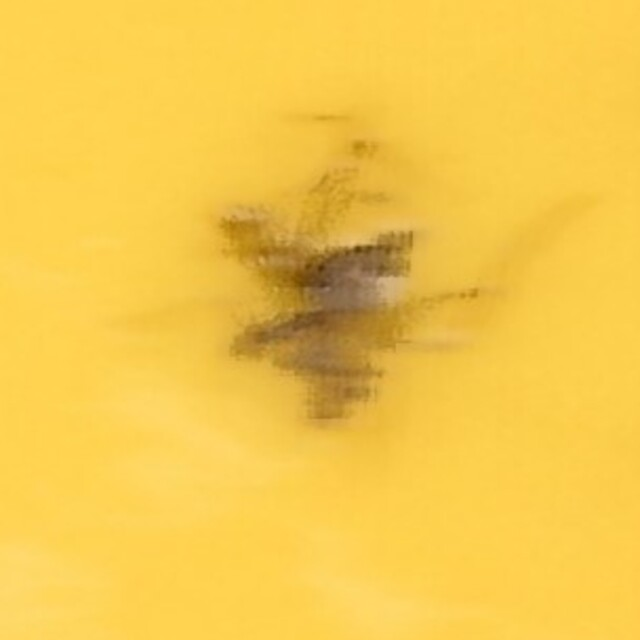Nematocera: (211, 194, 429, 446)
